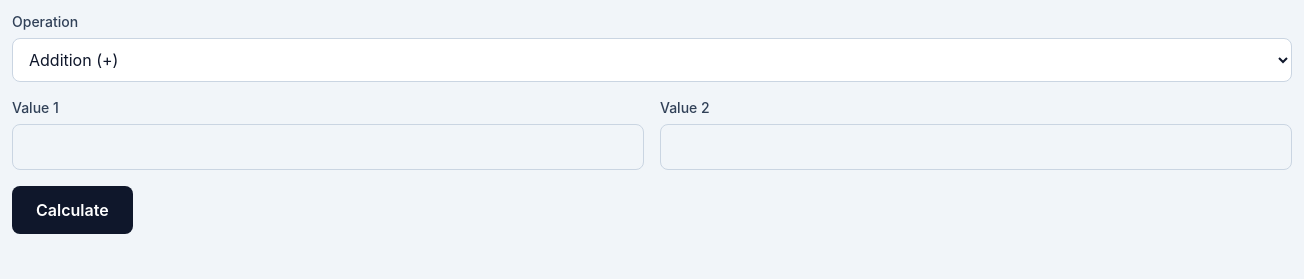
calculation › blocks the request when an operand is not a valid number
Check: the dropdown labelled "Operation" is shown, box x1=12 y1=38 x2=1292 y2=82
Type "abc" into the field labelled "Value 1" at (328, 147), box x1=12 y1=124 x2=644 y2=170
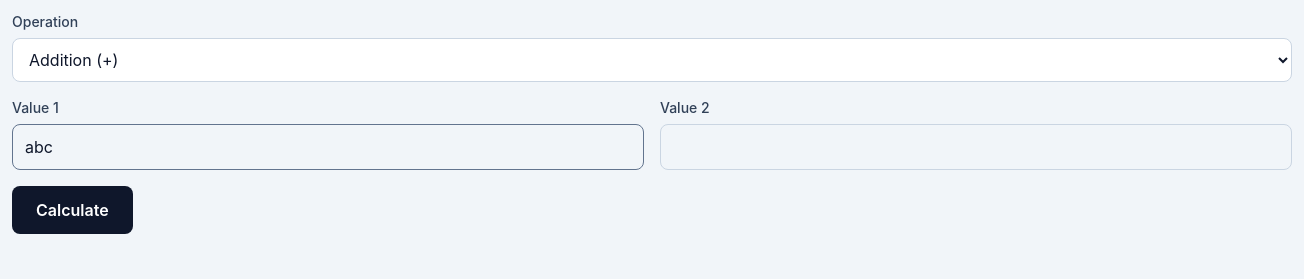
Type "2" into the field labelled "Value 2" at (976, 147), box x1=660 y1=124 x2=1292 y2=170
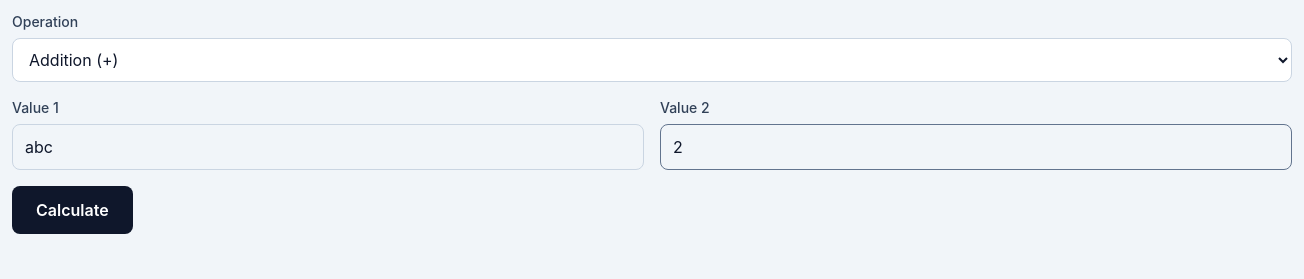
Click the button "Calculate" at (72, 210), box x1=12 y1=186 x2=133 y2=234
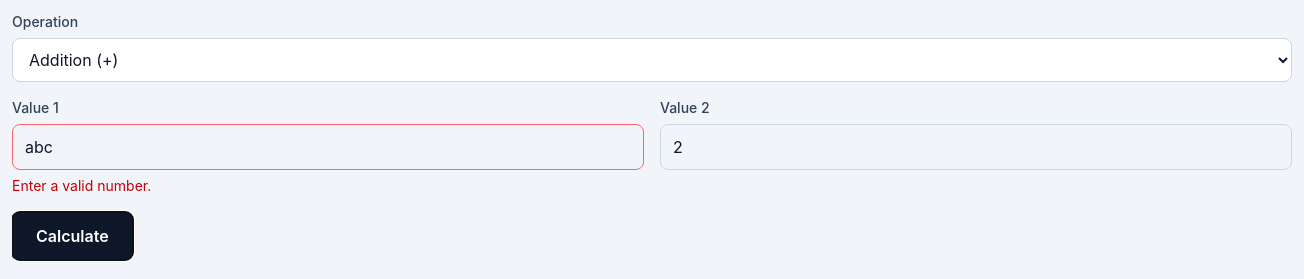
Check: the text "Enter a valid number." is shown, box x1=12 y1=177 x2=151 y2=194
